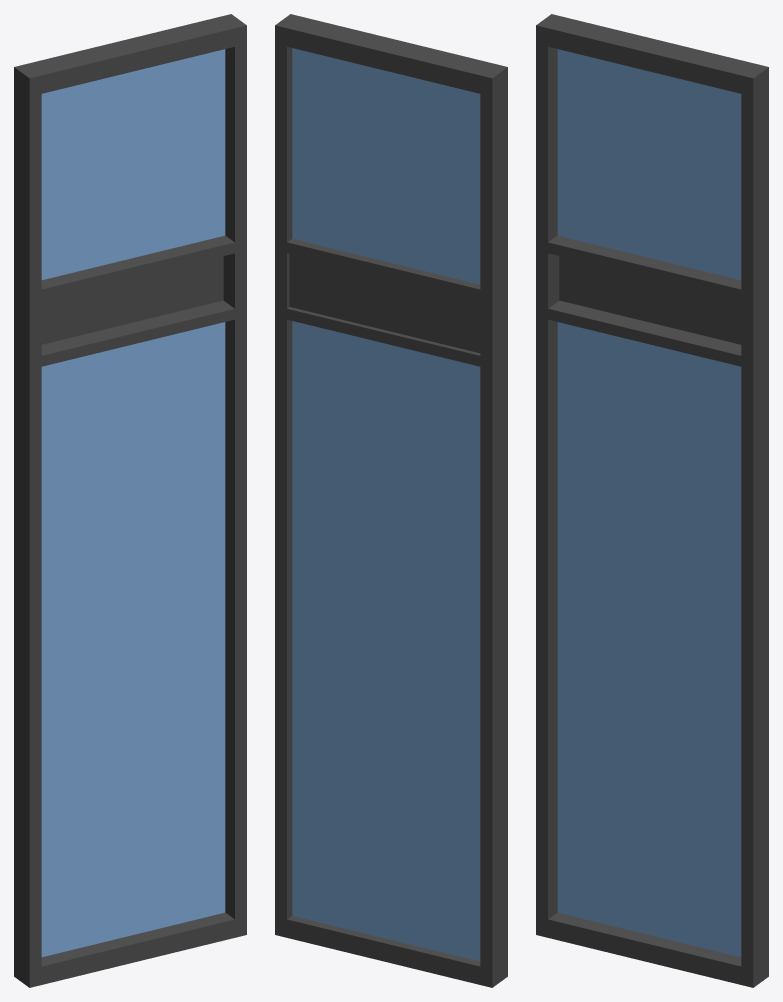
File: SM_DoorFrame_Middle.fbx
3 views of the same model, side by side, from view 1: azimuth 30°, elevation 25°; view 2: azimuth 150°, elevation 25°; view 3: azimuth 330°, elevation 25° (orthographic).
Visible parts, largest first — view 1: SM_DoorFrame_Middle; view 2: SM_DoorFrame_Middle; view 3: SM_DoorFrame_Middle.
Boxes of the visible parts, x1,y1,x2,y2 form: SM_DoorFrame_Middle: (14, 14, 246, 987); SM_DoorFrame_Middle: (275, 14, 507, 987); SM_DoorFrame_Middle: (536, 14, 768, 987).
Bounding box in the file's own units: 100 × 400 × 12.38.
